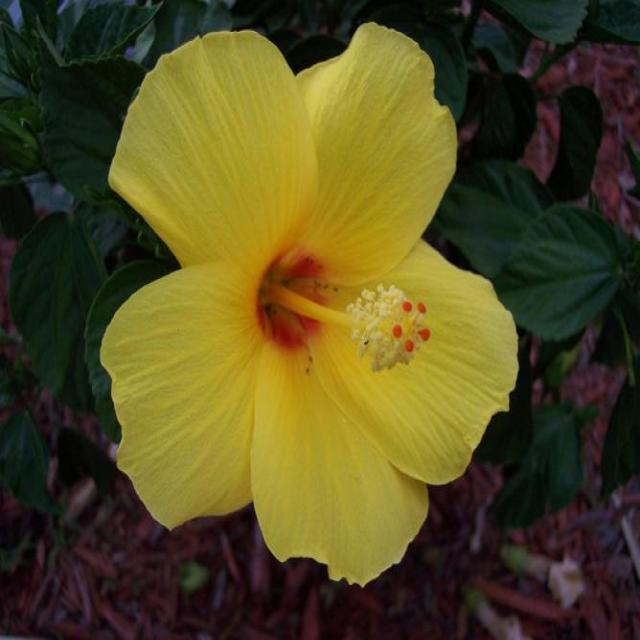hibiscus: (96, 7, 527, 640)
